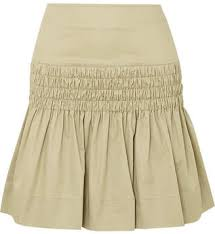C_skirt: (1, 2, 215, 233)
